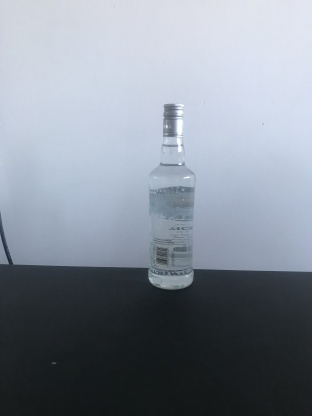nakretka: (161, 100, 185, 139)
